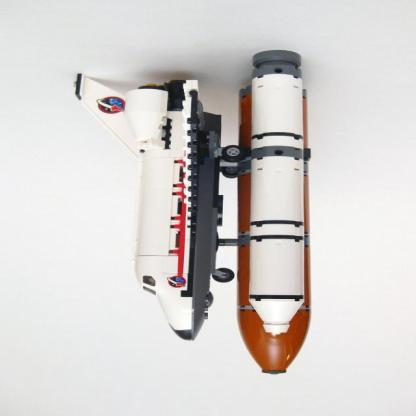MIL_TBM: (246, 50, 309, 338)
